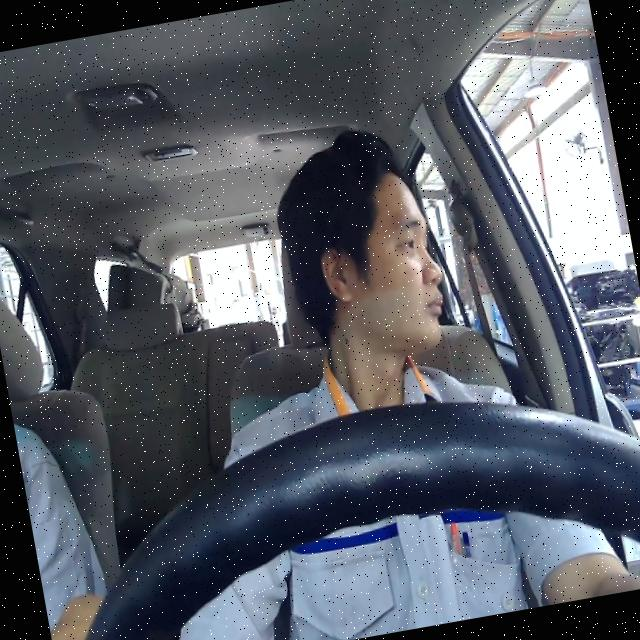seeing_right: (304, 160, 454, 364)
